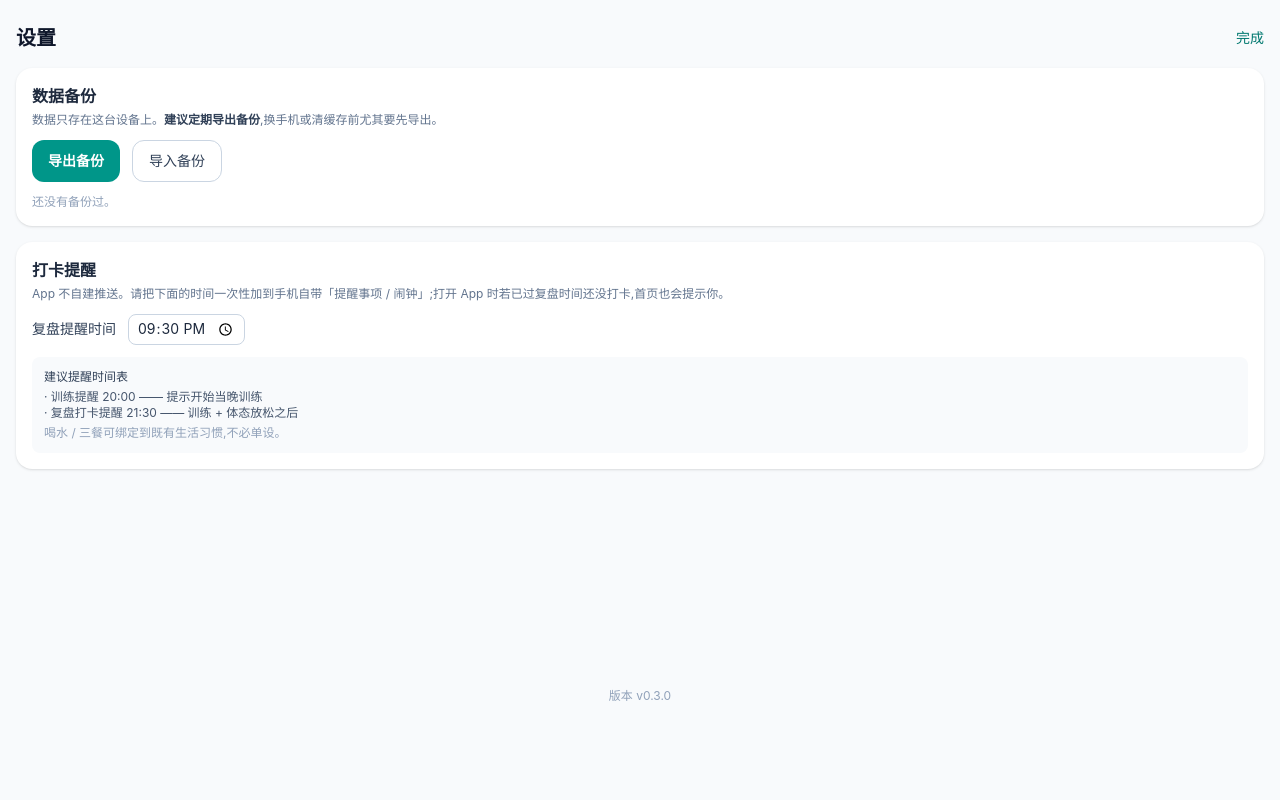
SettingsPage 数据备份 › 修改复盘提醒时间并持久化
Expected: the heading "数据备份" is shown, x1=32 y1=86 x2=96 y2=106
Replace the text in the time field labelled "复盘提醒时间" with "22:00" at coordinates (186, 329), box x1=128 y1=314 x2=245 y2=345
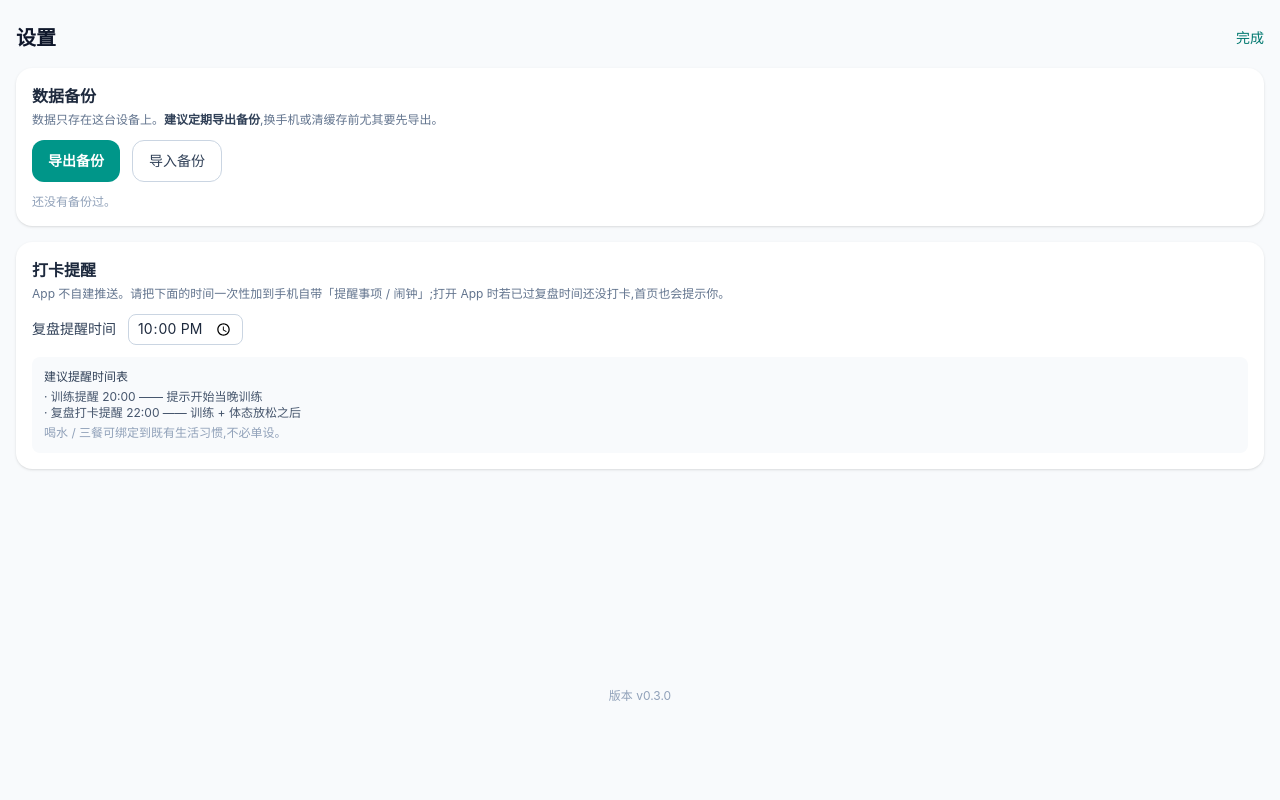
Expected: the text "· 复盘打卡提醒 22:00 —— 训练 + 体态放松之后" is shown, x1=44 y1=405 x2=301 y2=420
